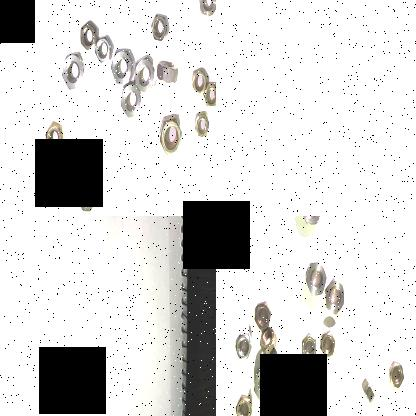NUTS: (158, 113, 184, 160), (133, 54, 157, 99), (266, 344, 288, 392), (117, 81, 143, 121), (60, 49, 85, 90), (110, 48, 134, 88), (328, 272, 347, 319), (305, 259, 327, 297), (152, 58, 180, 86), (249, 298, 272, 332), (44, 115, 64, 154), (78, 14, 98, 52), (298, 328, 320, 362), (386, 356, 405, 392), (94, 32, 114, 66), (149, 12, 169, 44), (234, 330, 254, 362), (258, 325, 280, 354), (78, 180, 96, 214), (189, 69, 209, 99), (358, 375, 378, 405), (233, 389, 254, 416), (320, 326, 336, 360), (193, 112, 211, 140), (272, 397, 296, 416), (202, 78, 216, 110), (196, 0, 216, 20), (298, 216, 323, 227), (216, 202, 226, 216)
